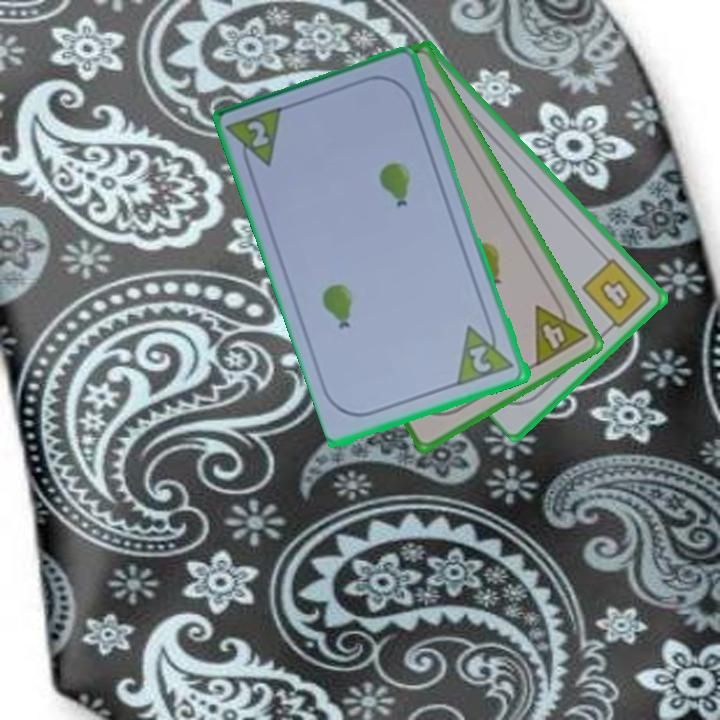2p: (225, 102, 288, 178), (454, 316, 518, 389)
4b: (578, 254, 654, 336)
4p: (531, 291, 591, 370)
